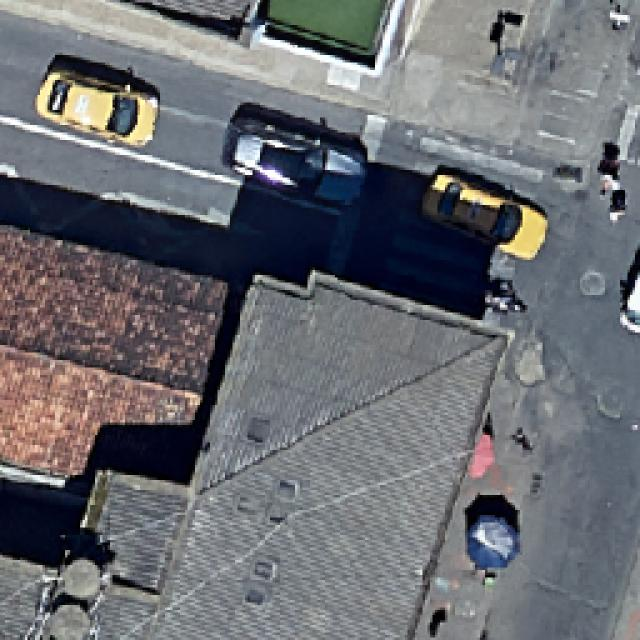vendedor_ambulante: (466, 515, 517, 567), (468, 432, 498, 482)
